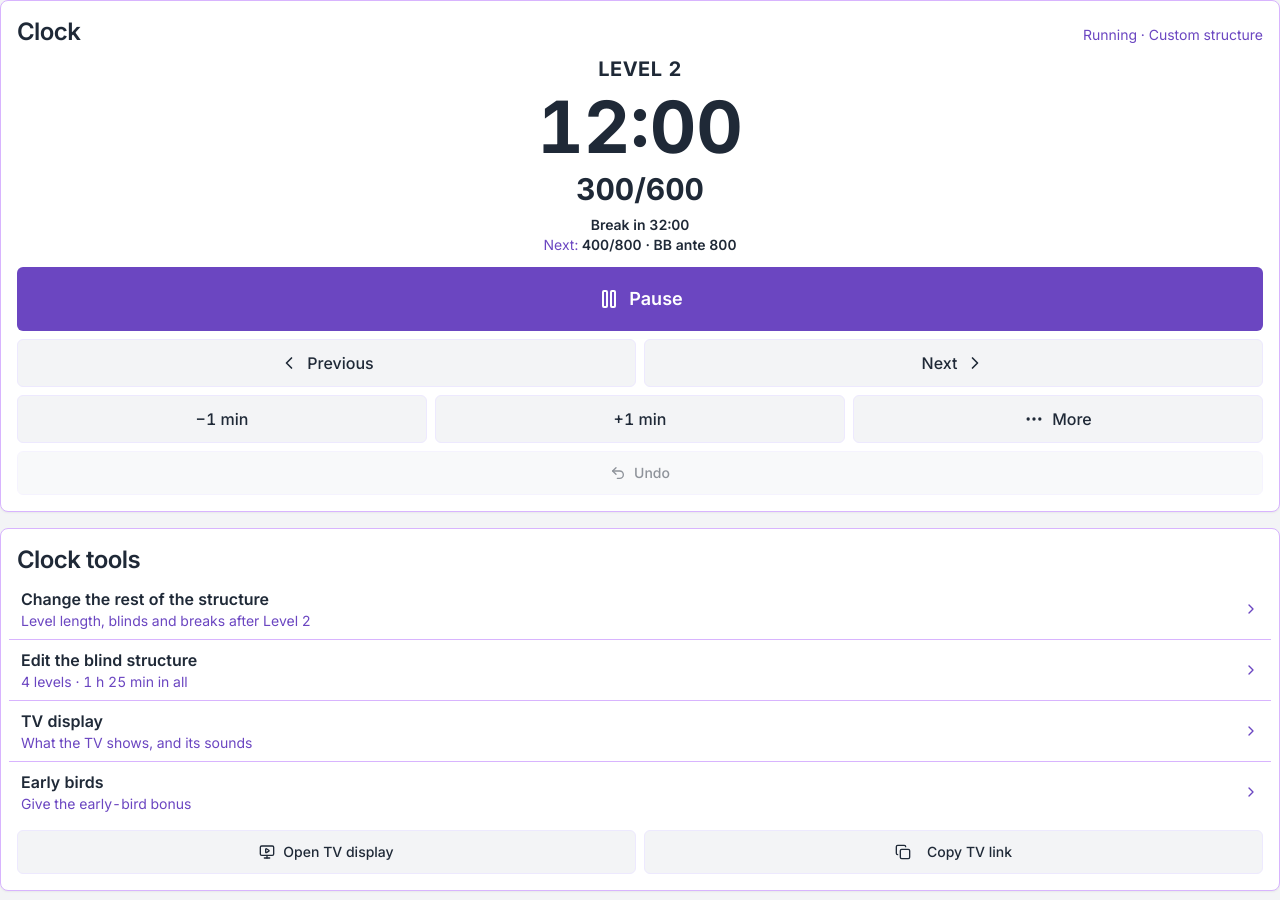
Change the rest of the structure (round 5, item 3) › regenerates the later blinds with a tap of the multiplier, and says what is wrong with a typed one
Click the button "Change the rest of the structure" at {"x": 145, "y": 599}, box [9,579,1271,639]
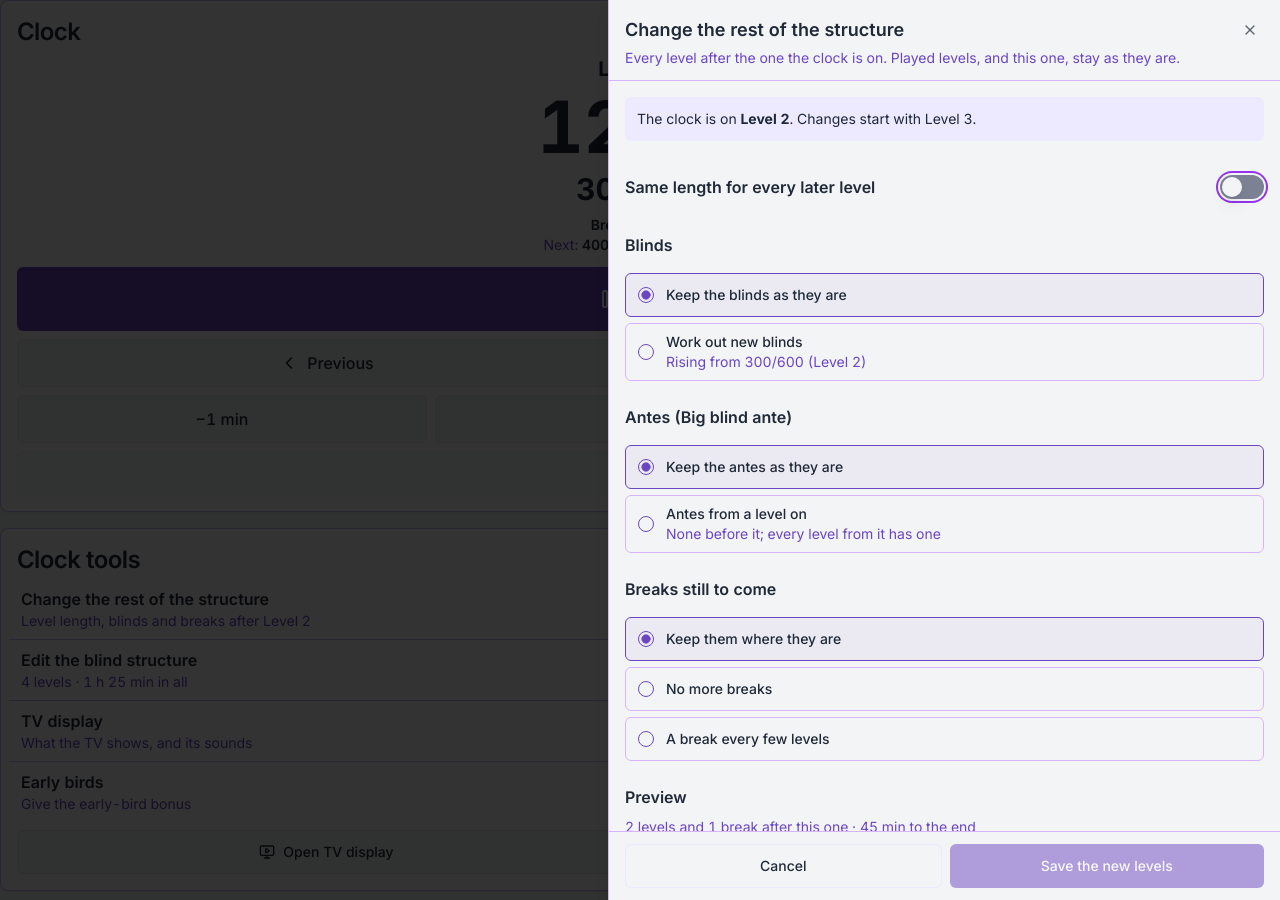
Click the radio button named "Work out new blinds" next to "Work out new blinds" at {"x": 646, "y": 352}, box [638,344,654,360]
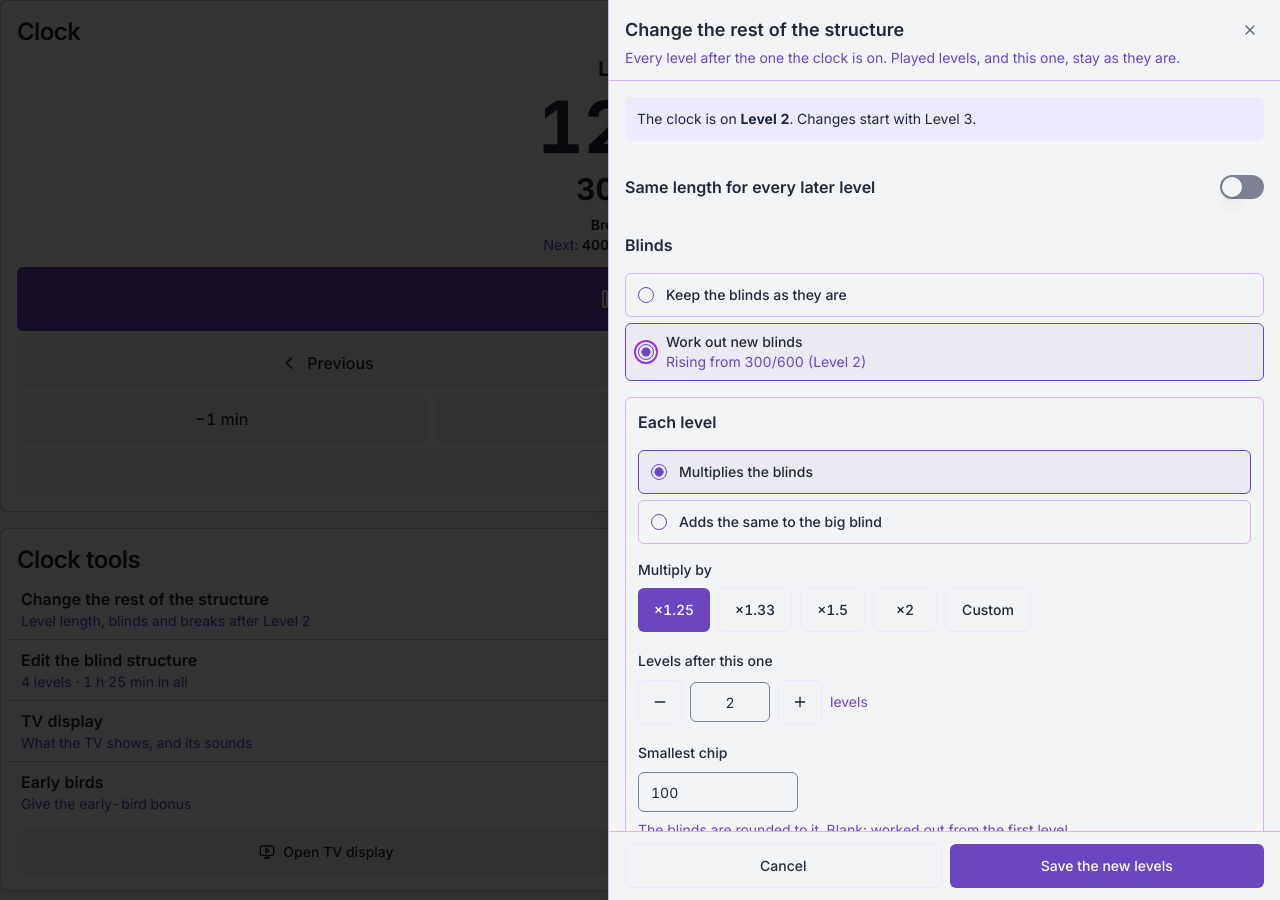
Result: the text "Rising from 300/600 (Level 2)" is shown at [666,352,866,372]
Click the button "×2" at {"x": 905, "y": 610}, box [873,588,937,632]
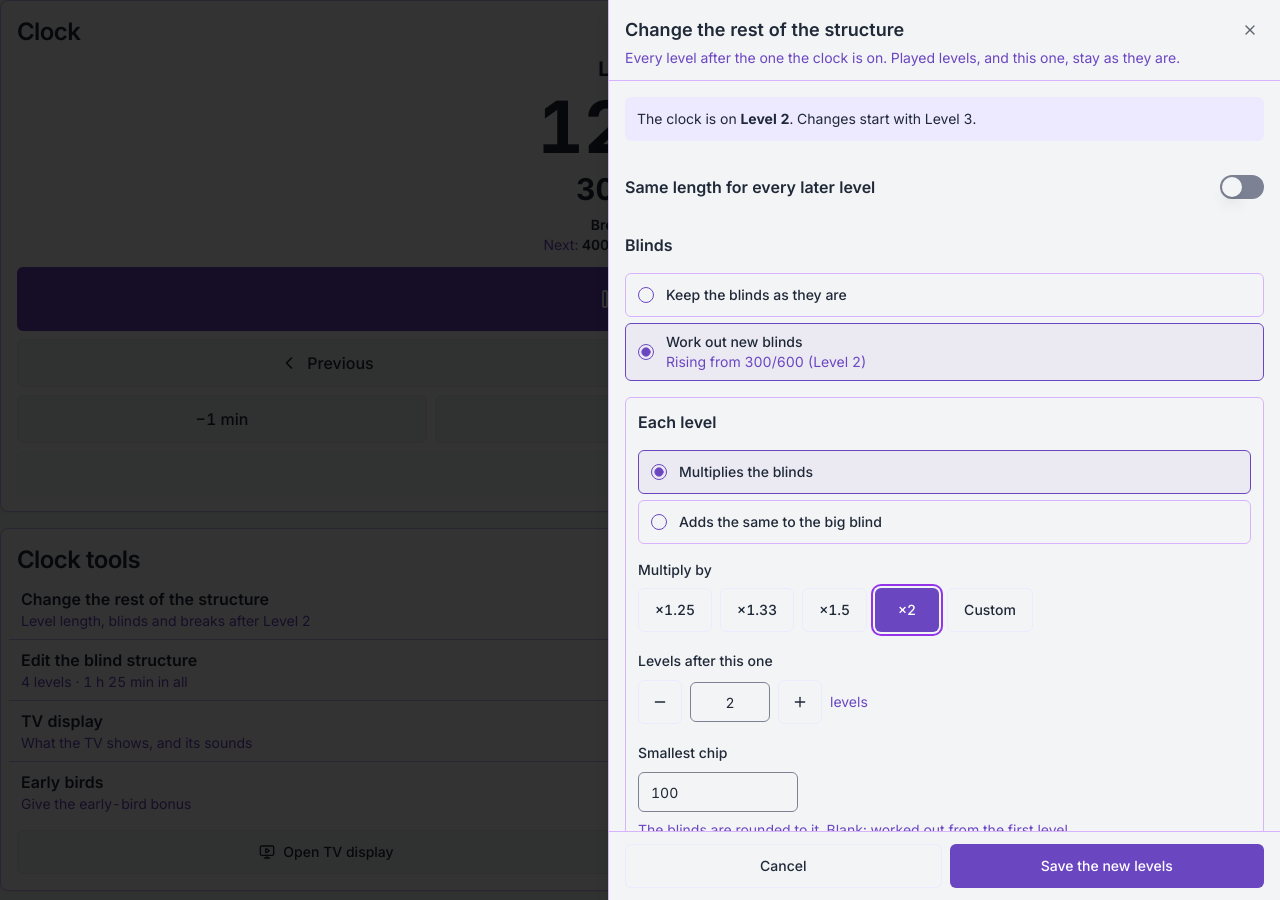
Result: the button "×2" is pressed at [875,588,939,632]
Click the button "Custom" at {"x": 990, "y": 610}, box [947,588,1033,632]
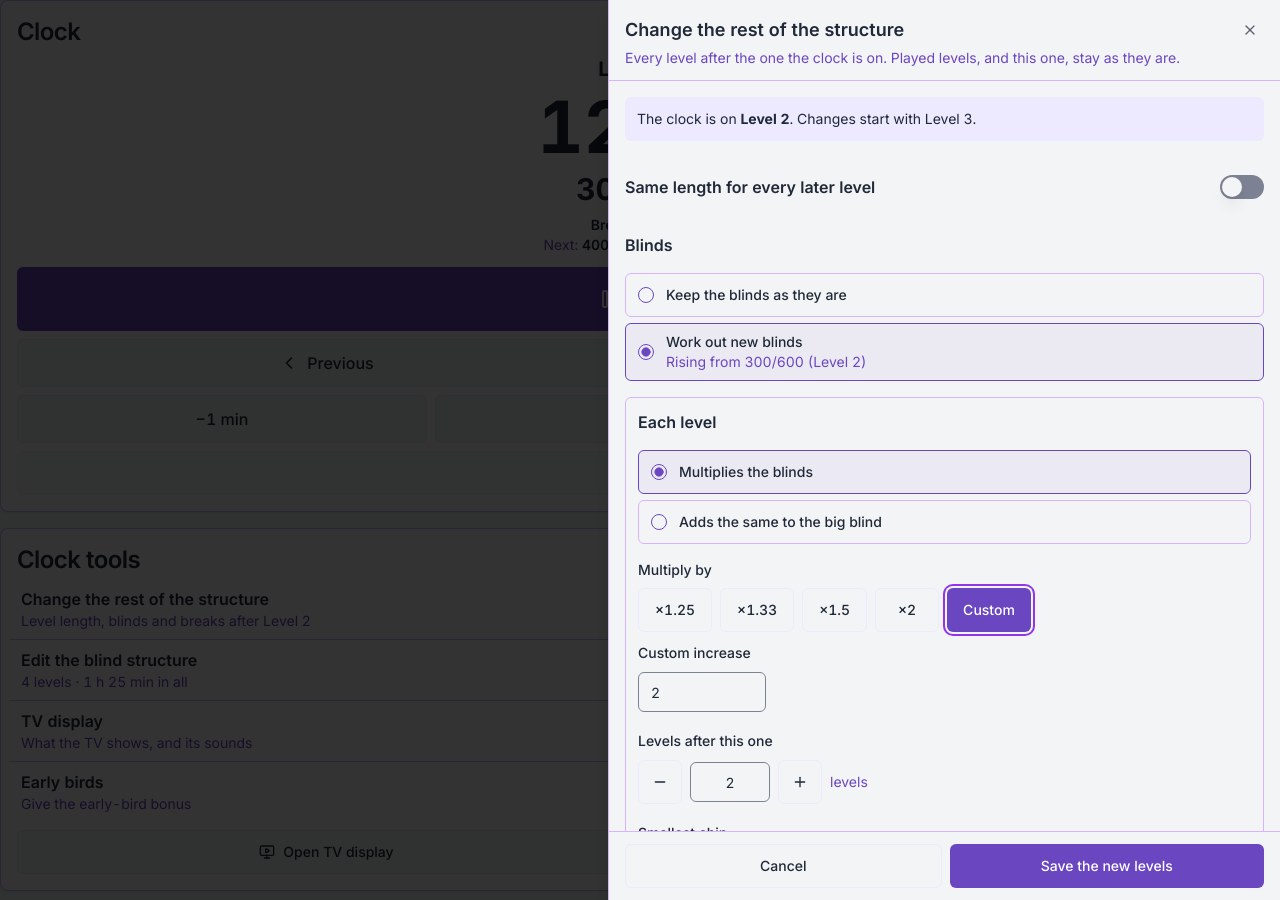
Replace the text in the field labelled "Custom increase" with "9" at {"x": 702, "y": 692}, box [638,672,766,712]
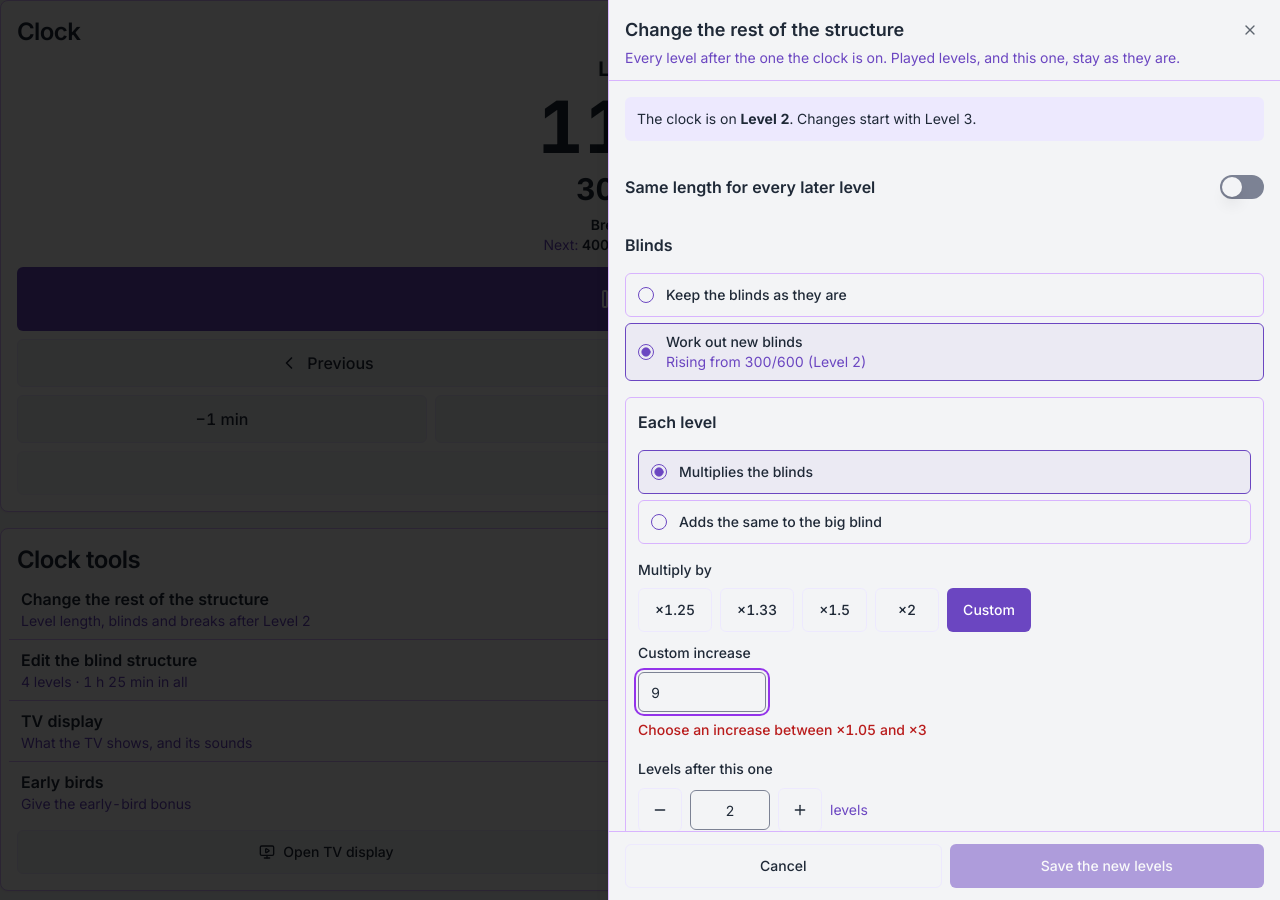
Result: the button "Save the new levels" is disabled at [950,844,1264,888]
Result: the text "Choose an increase between ×1.05 and ×3" is shown at [638,721,927,738]
